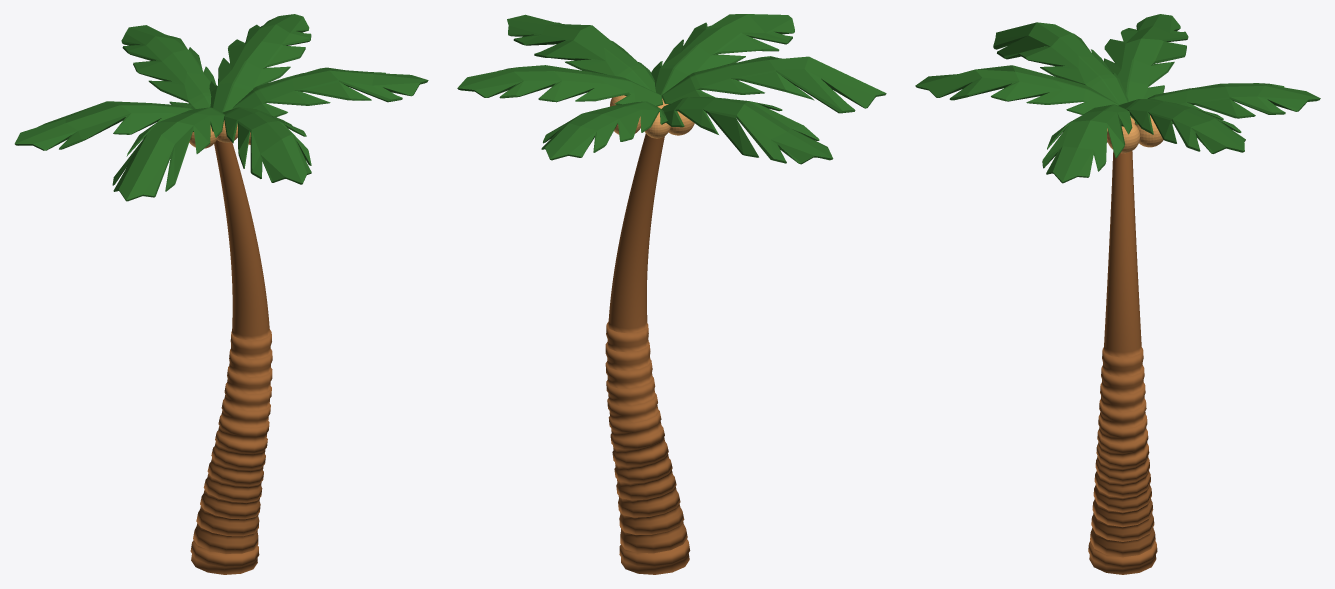
Rendered from coconuttrees.fbx.
3 views of the same model, side by side, from view 1: azimuth 30°, elevation 25°; view 2: azimuth 150°, elevation 25°; view 3: azimuth 270°, elevation 25° (orthographic). The views are drawn at different scales.
Parts seen in each view (by area): view 1: Plane.001; view 2: Plane.001; view 3: Plane.001.
Boxes of the visible parts, x1,y1,x2,y2 form: Plane.001: [14, 14, 428, 574]; Plane.001: [457, 14, 886, 574]; Plane.001: [915, 14, 1320, 574].
Bounding box in the file's own units: 1159 × 1472 × 1112.
